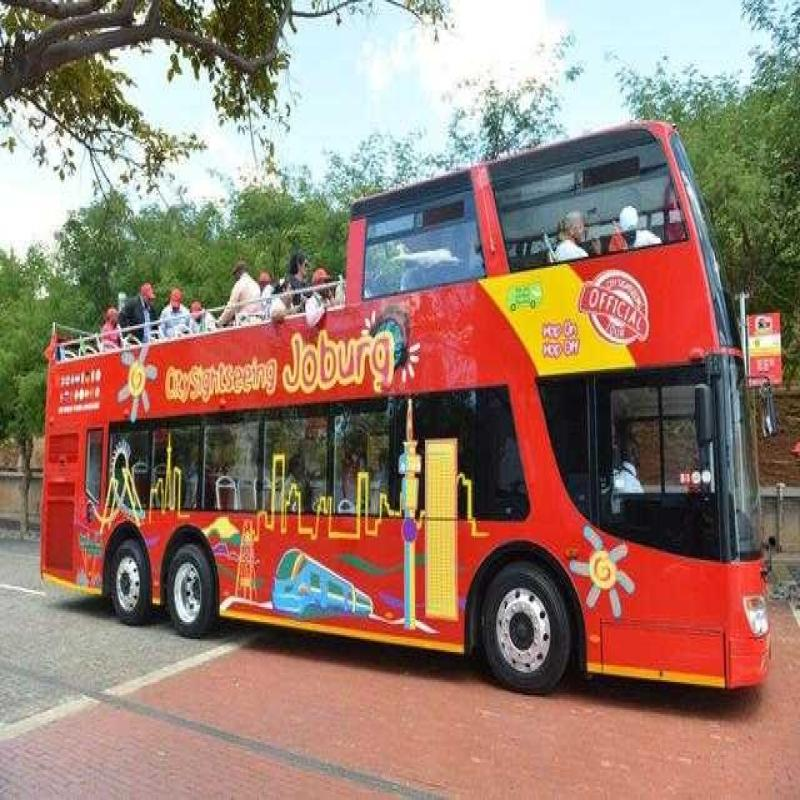bus: (45, 140, 800, 727)
